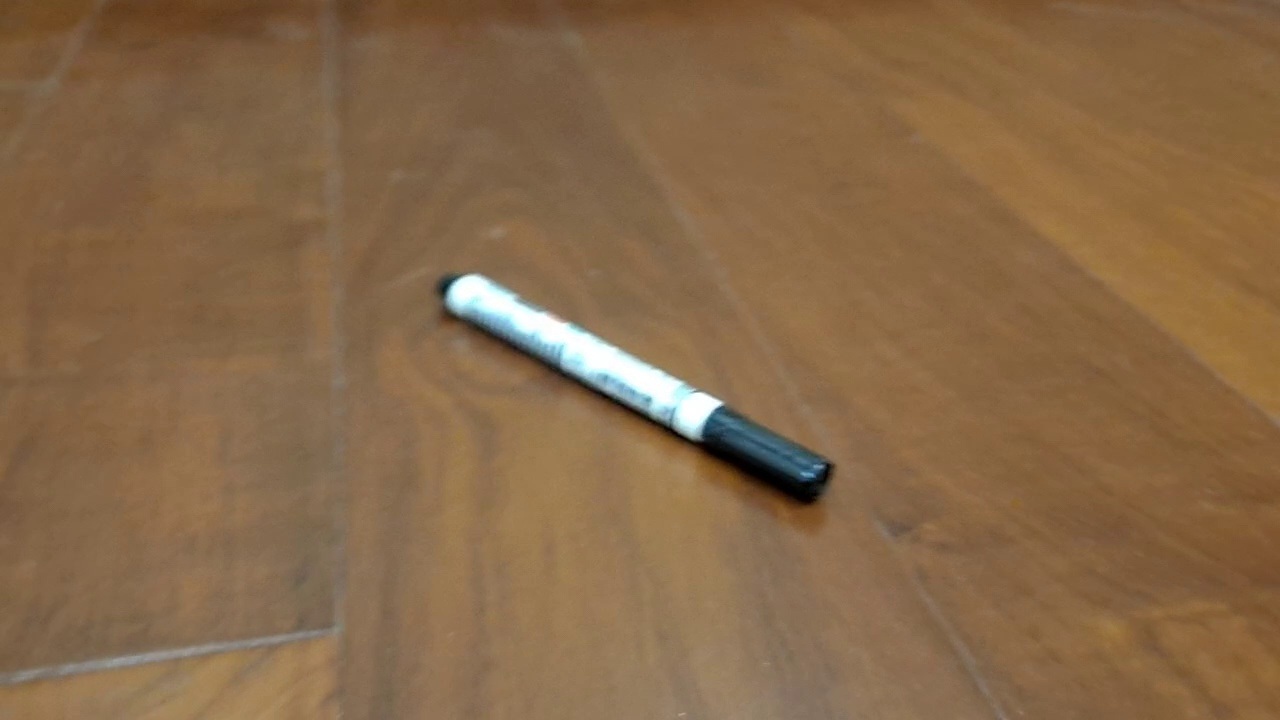pen: (433, 270, 837, 508)
